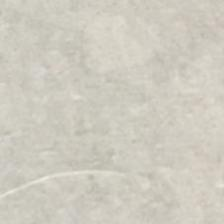Non_Crack: (0, 21, 224, 177)
